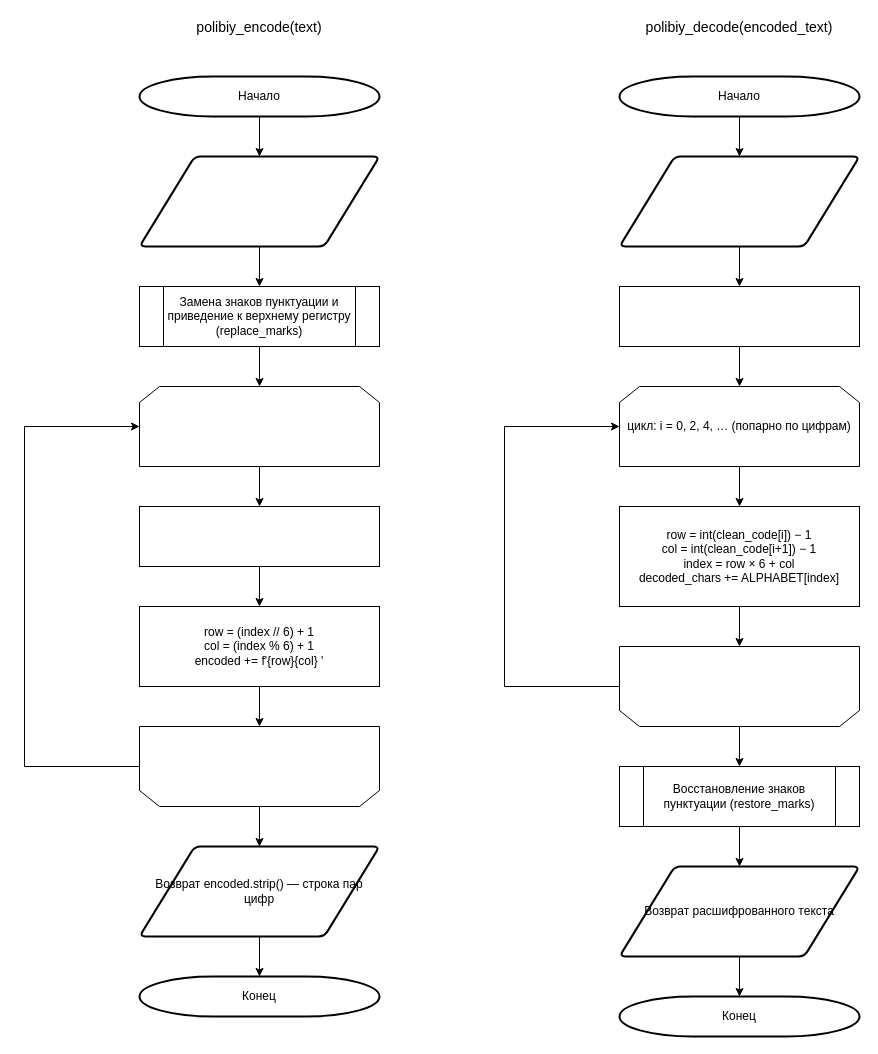
Image size: 878x1054. Some labels were removed from this diagram. Here are the shapes that lost their labels. From the top down, the centre of each, then its label:
(259,201): Ввод: text (строка)
(739,201): Ввод: encoded_text (строка цифровых пар)
(739,316): clean_code = encoded_text.replace(' ', '')
(259,426): цикл: для каждого char в обработанном тексте
(259,536): index = ALPHABET.find(char)
